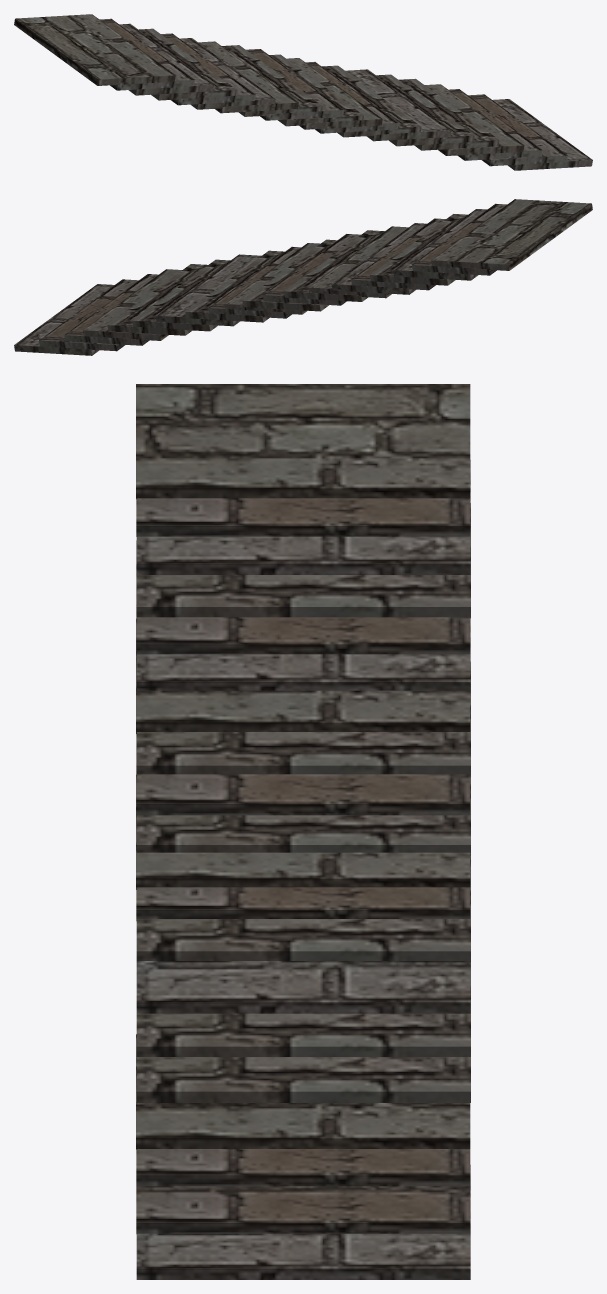
File: RoofTopStoneB.fbx
The picture shows the model from 3 angles, top to bottom: view 1: azimuth 30°, elevation 25°; view 2: azimuth 150°, elevation 25°; view 3: azimuth 270°, elevation 25°; orthographic projection. The views are drawn at different scales.
Visible parts, largest first — view 1: Cube.001; view 2: Cube.001; view 3: Cube.001.
Part boxes in pixels (x1,y1,x2,y2): Cube.001: (14, 14, 592, 170); Cube.001: (14, 199, 592, 355); Cube.001: (136, 384, 470, 1279).
Size of the model in its own units: 151 by 60.14 by 44.04.
Materials: 1 (1 with a texture image).
